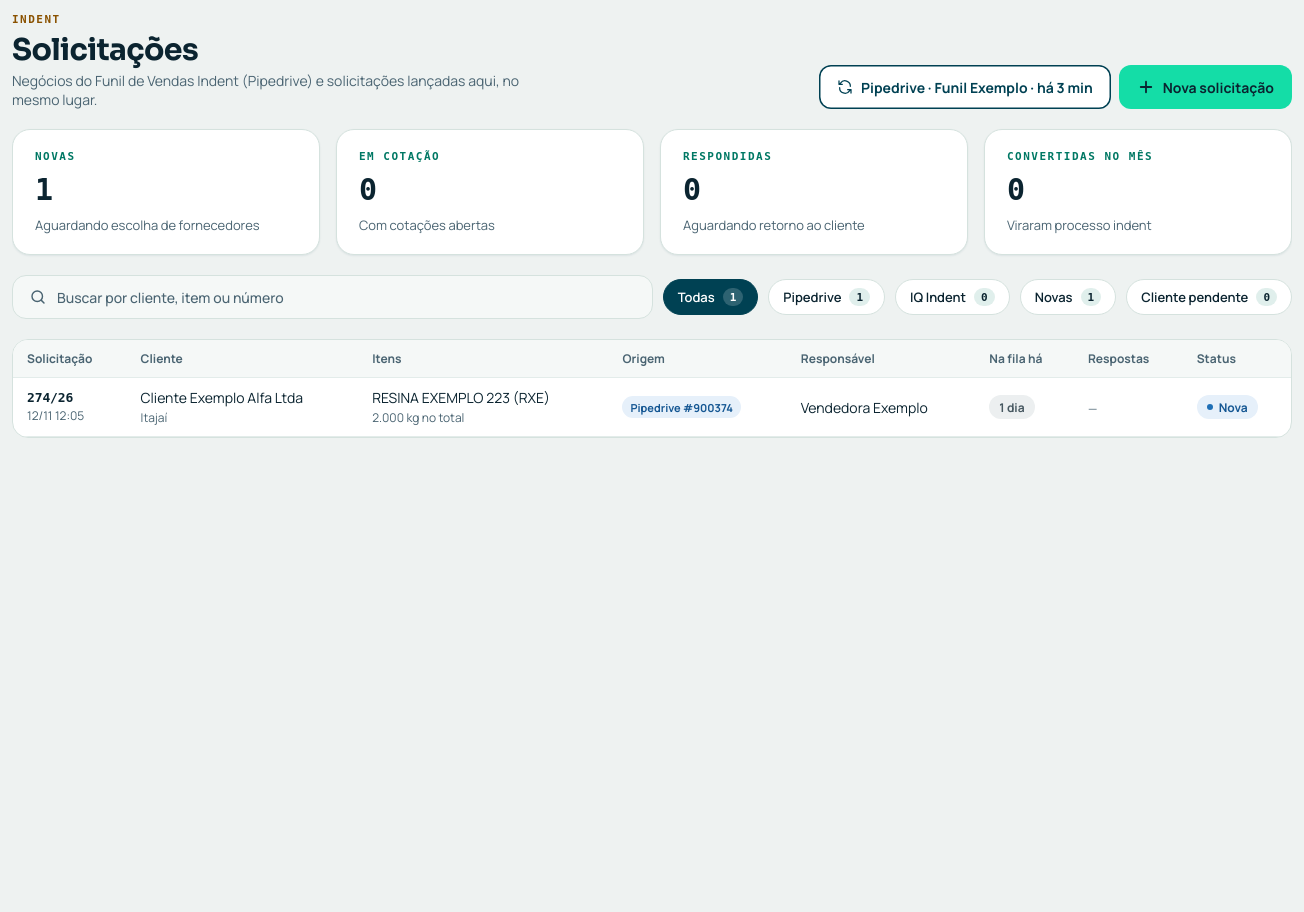
Scenario: sincronizar pela lista › nenhum negocio novo: "desde HH:mm" da ultima sincronizacao; erros e adiados entram no detalhe do toast
What coordinates should you click on to do the following:
click the button "Pipedrive · Funil Exemplo · há 3 min"
I would click on:
 (965, 87)
Its box is [819,65,1111,109].
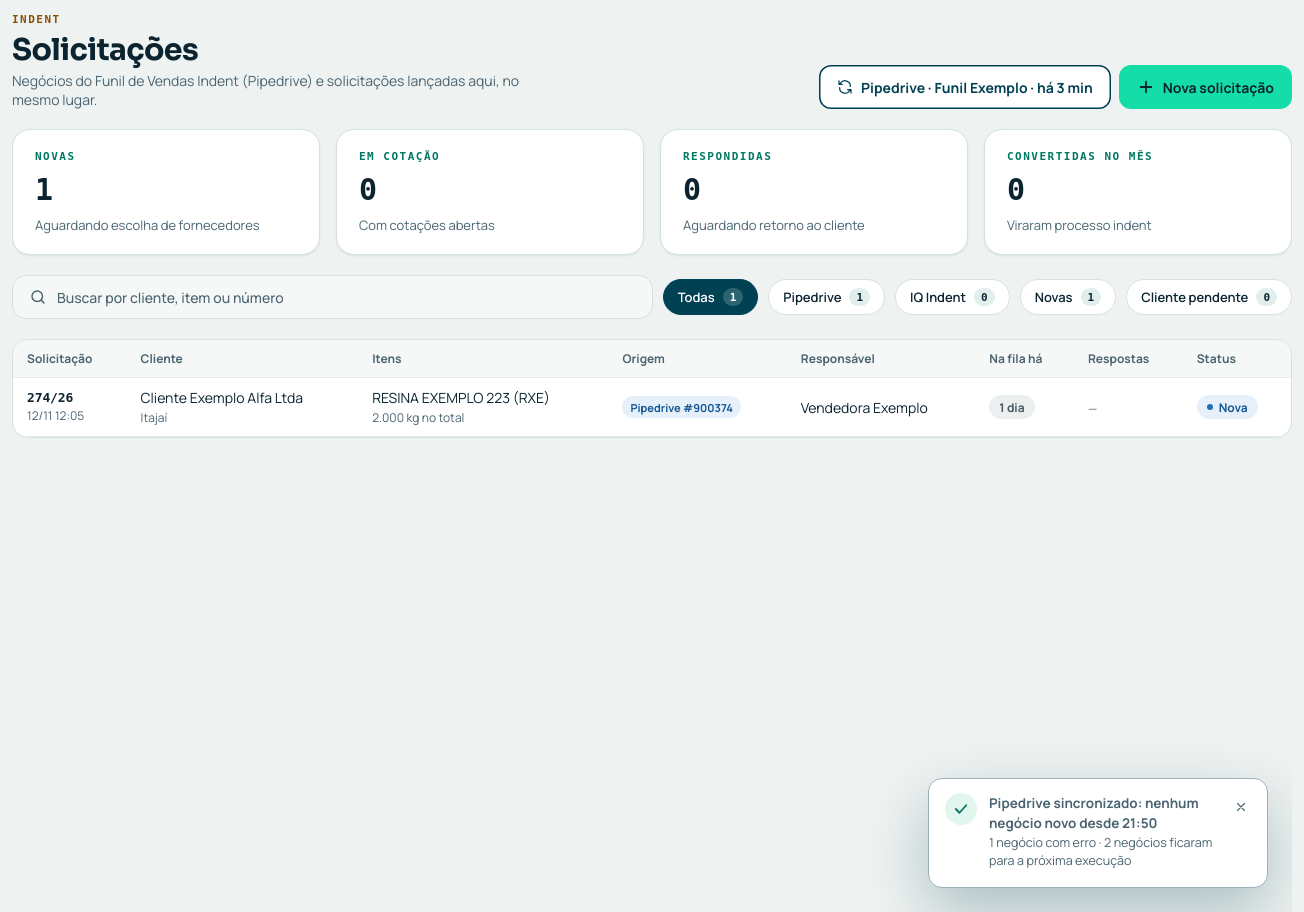
Expected: the text "1 negócio com erro · 2 negócios ficaram para a próxima execução" is shown, [989,834,1215,869]
